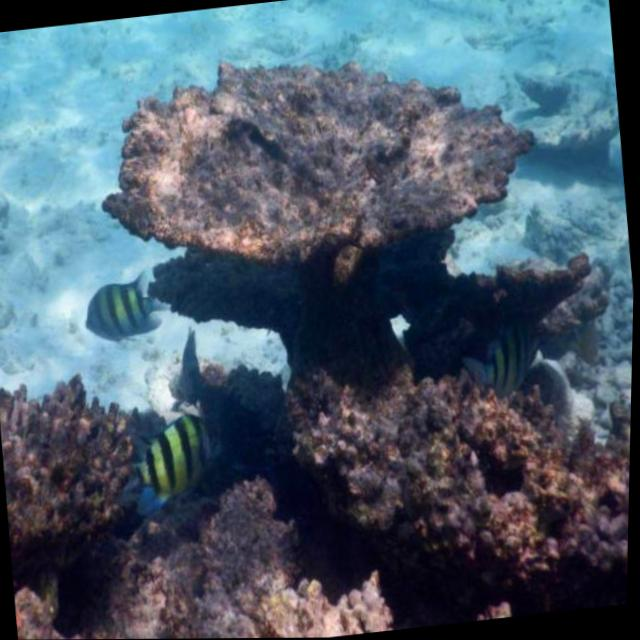Dead Coral: (0, 321, 634, 640), (85, 27, 563, 319)
